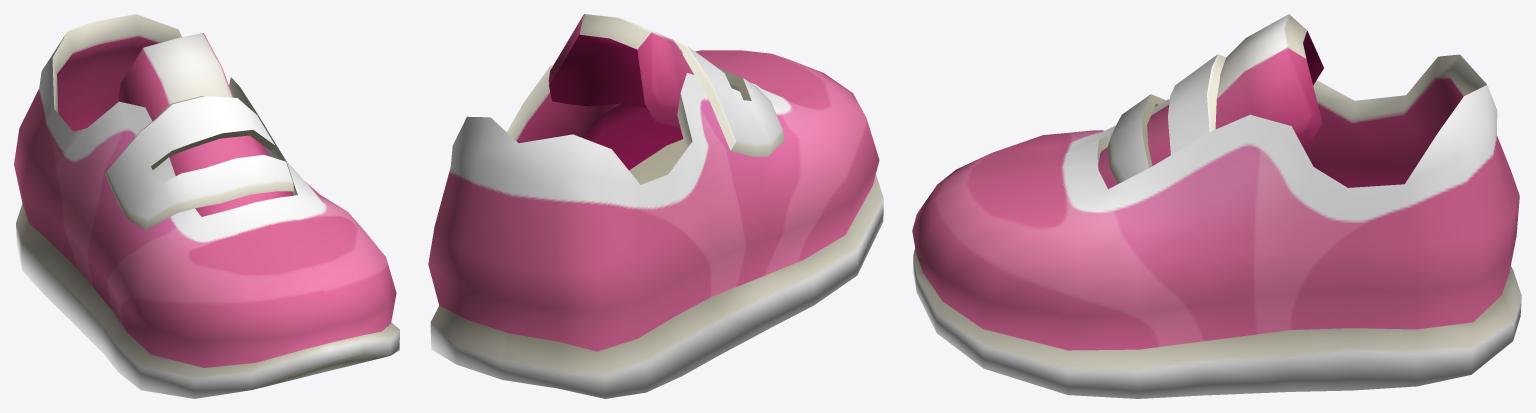
Rendered from shose.FBX.
3 renders of one model, left to right at view 1: azimuth 30°, elevation 25°; view 2: azimuth 150°, elevation 25°; view 3: azimuth 270°, elevation 25°, orthographic. The views are drawn at different scales.
Parts seen in each view (by area): view 1: shose; view 2: shose; view 3: shose.
Part boxes in pixels (x1,y1,x2,y2): shose: (14, 14, 399, 398); shose: (428, 14, 883, 398); shose: (912, 14, 1521, 398).
Size of the model in its own units: 32.09 by 35.28 by 61.77.
